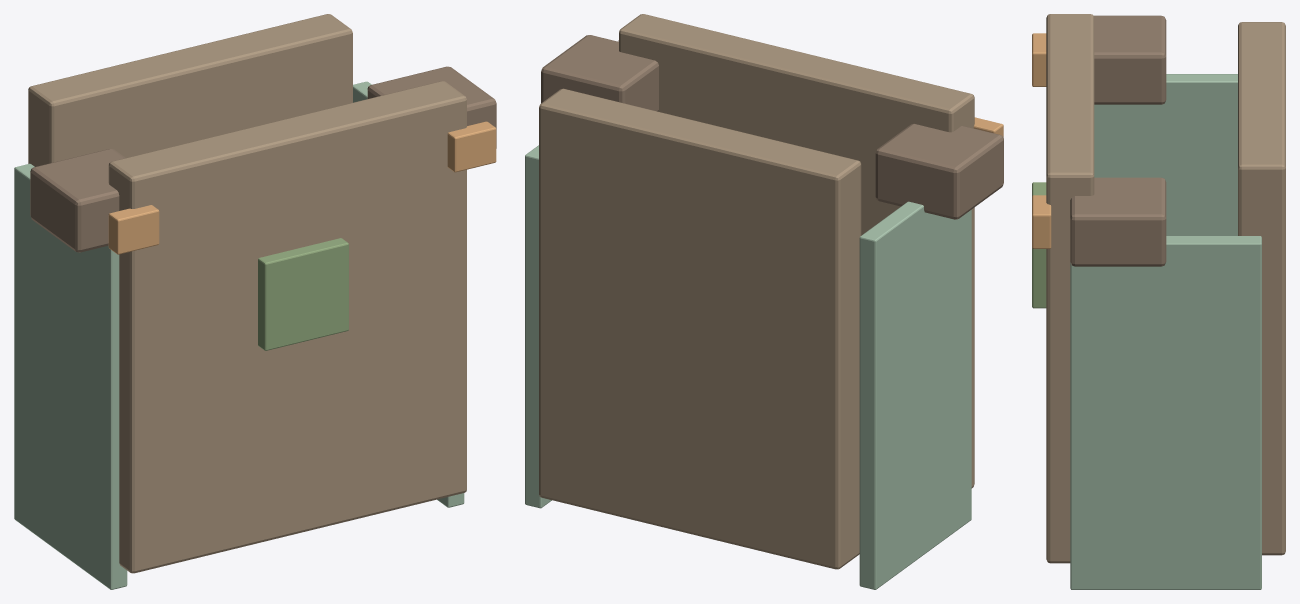
File: armor_bogiron_cuirass.glb
3 renders of one model, left to right at view 1: azimuth 30°, elevation 25°; view 2: azimuth 150°, elevation 25°; view 3: azimuth 270°, elevation 25°, orthographic.
Parts seen in each view (by area): view 1: Front, Seam_L, Back, Crest, Strap_L, Strap_R, Buckle_L, Buckle_R; view 2: Back, Seam_L, Front, Strap_L, Strap_R, Seam_R; view 3: Seam_R, Back, Front, Seam_L, Strap_R, Strap_L, Crest, Buckle_R, Buckle_L.
Part boxes in pixels (box(x1,y1,x2,y2)): Front: box(108, 81, 466, 573); Seam_L: box(14, 163, 127, 589); Back: box(28, 14, 352, 166); Crest: box(258, 238, 348, 350); Strap_L: box(30, 149, 125, 252); Strap_R: box(367, 66, 496, 148); Buckle_L: box(108, 205, 159, 254); Buckle_R: box(447, 121, 496, 172); Back: box(539, 88, 861, 569); Seam_L: box(859, 201, 971, 589); Front: box(619, 14, 974, 488); Strap_L: box(875, 124, 1003, 219); Strap_R: box(541, 35, 658, 111); Seam_R: box(525, 145, 551, 508); Seam_R: box(1070, 236, 1261, 589); Back: box(1238, 22, 1285, 555); Front: box(1046, 14, 1094, 563); Seam_L: box(1094, 74, 1237, 235); Strap_R: box(1070, 177, 1166, 266); Strap_L: box(1094, 15, 1166, 104); Crest: box(1032, 182, 1046, 308); Buckle_R: box(1032, 195, 1051, 248); Buckle_L: box(1032, 33, 1046, 86).
Size of the model in its own units: 0.5 by 0.475 by 0.265.
